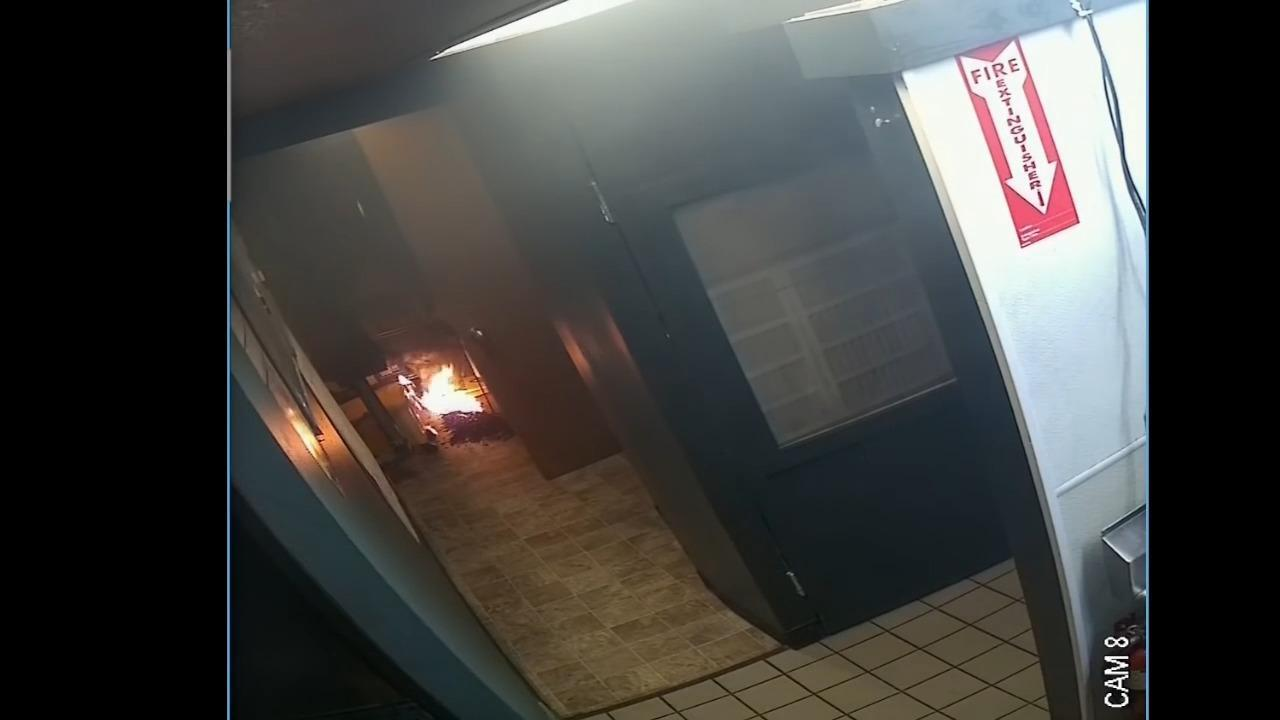fire: (420, 363, 484, 413)
